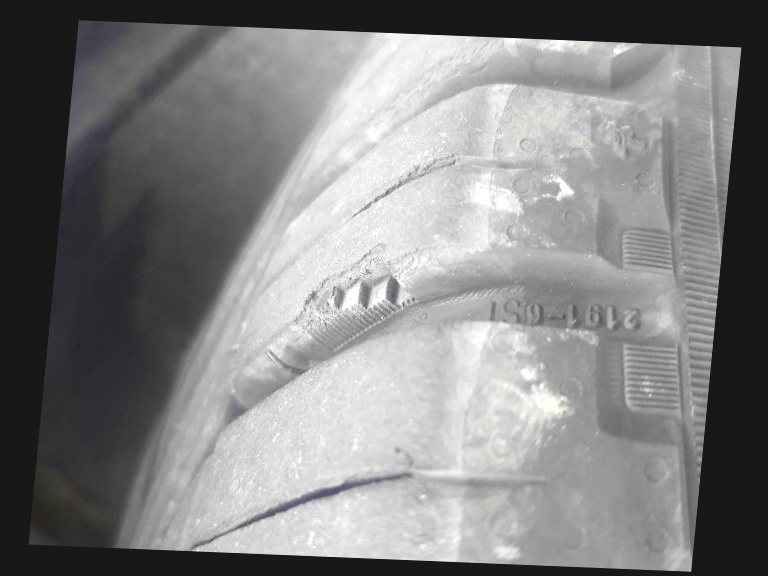temoin:80: (288, 235, 433, 360)
